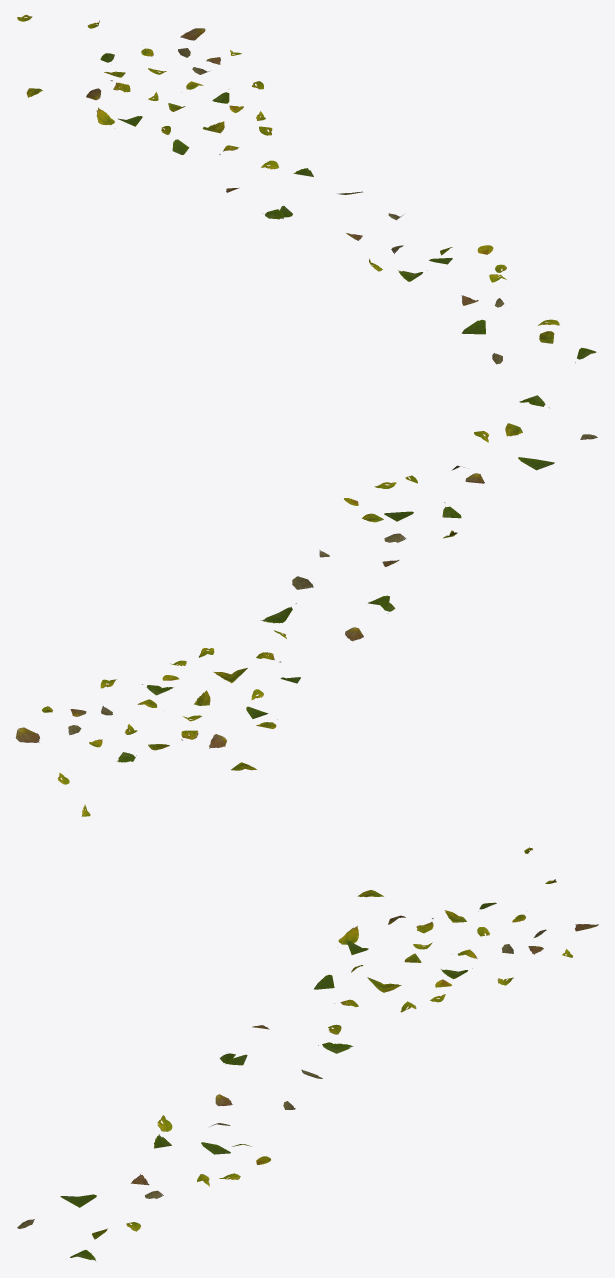
File: Decal_Leaf_Ground_x2.fbx
3 renders of one model, top to bottom at view 1: azimuth 30°, elevation 25°; view 2: azimuth 150°, elevation 25°; view 3: azimuth 330°, elevation 25°, orthographic. The views are drawn at different scales.
Parts seen in each view (by area): view 1: Decal_Leaf_Ground_x2; view 2: Decal_Leaf_Ground_x2; view 3: Decal_Leaf_Ground_x2.
Part boxes in pixels (<box>): Decal_Leaf_Ground_x2: <box>17,14,596,364</box>; Decal_Leaf_Ground_x2: <box>15,395,597,816</box>; Decal_Leaf_Ground_x2: <box>17,847,598,1261</box>.
Size of the model in its own units: 34.96 by 1.77 by 144.
